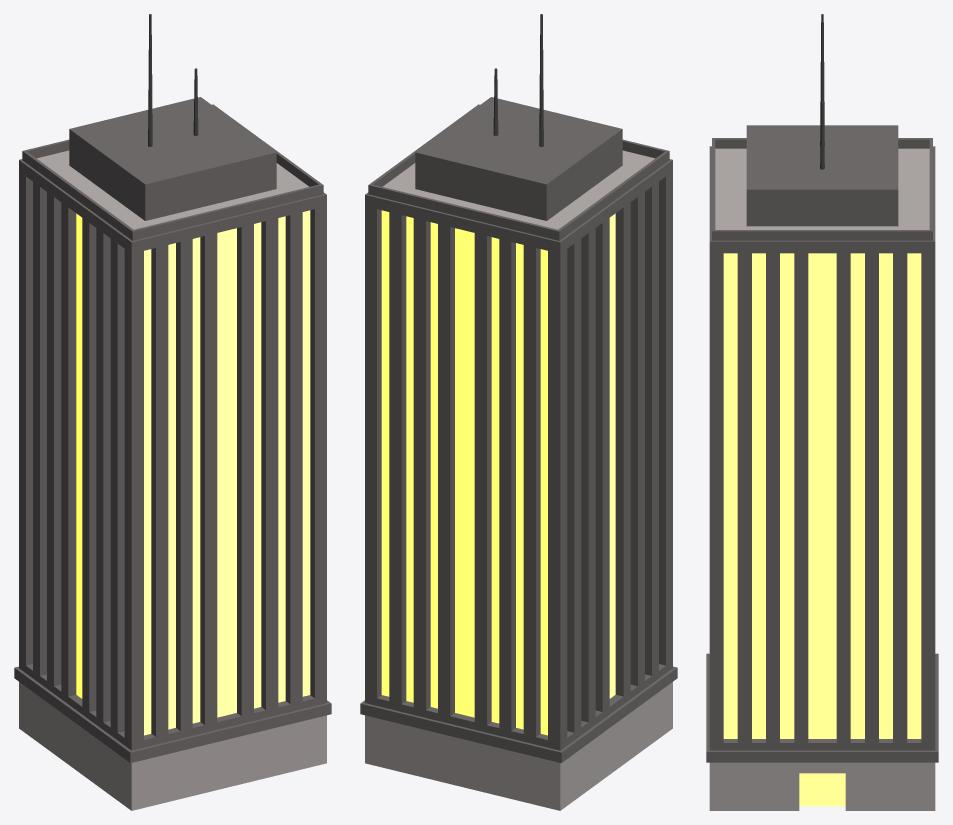
The model's file is building1.glb.
The picture shows the model from 3 angles, left to right: view 1: azimuth 30°, elevation 25°; view 2: azimuth 150°, elevation 25°; view 3: azimuth 270°, elevation 25°; orthographic projection.
Visible parts, largest first — view 1: Edificio; view 2: Edificio; view 3: Edificio.
Boxes of the visible parts, bbox=[...] form: Edificio: bbox=[14, 14, 331, 810]; Edificio: bbox=[360, 14, 677, 810]; Edificio: bbox=[706, 14, 938, 810].
Bounding box in the file's own units: 4.98 × 17.42 × 4.98.
